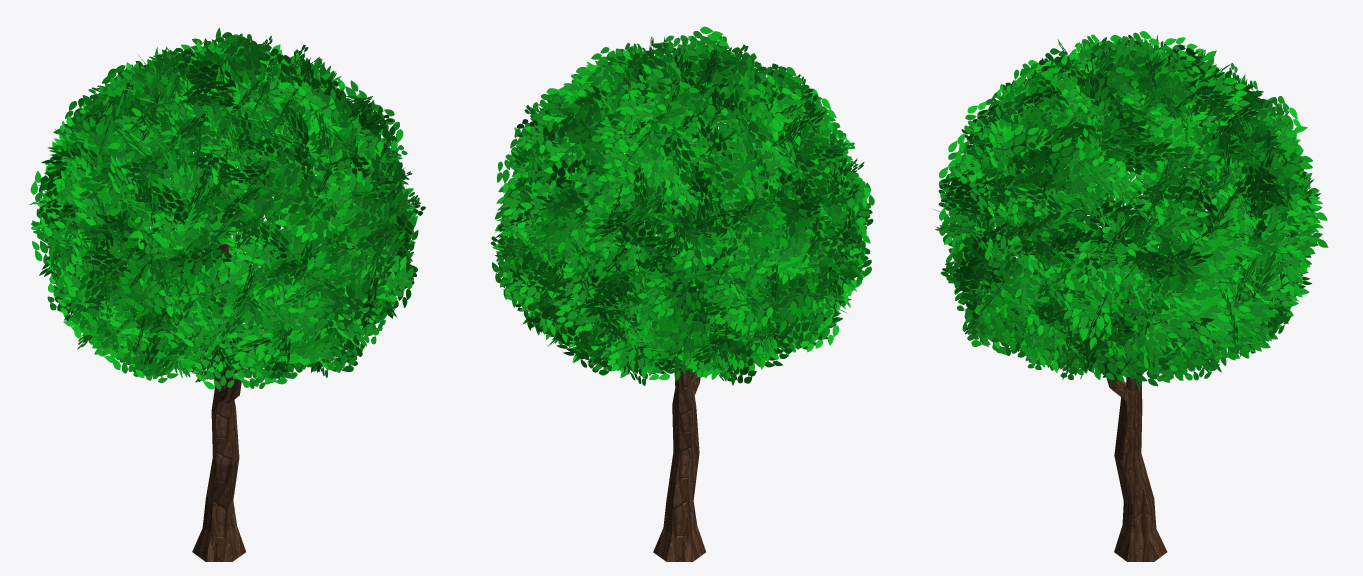
File: Tree 2.fbx
3 renders of one model, left to right at view 1: azimuth 30°, elevation 25°; view 2: azimuth 150°, elevation 25°; view 3: azimuth 270°, elevation 25°, orthographic.
Visible parts, largest first — view 1: Tree 2, Tree Base 2; view 2: Tree 2, Tree Base 2; view 3: Tree 2, Tree Base 2.
Boxes of the visible parts, left/top/right/bottom form: Tree 2: left=29, top=28, right=425, bottom=389; Tree Base 2: left=192, top=241, right=245, bottom=561; Tree 2: left=490, top=26, right=874, bottom=385; Tree Base 2: left=653, top=251, right=705, bottom=561; Tree 2: left=933, top=31, right=1328, bottom=390; Tree Base 2: left=1105, top=263, right=1167, bottom=561.
Bounding box in the file's own units: 901 × 1228 × 918.
